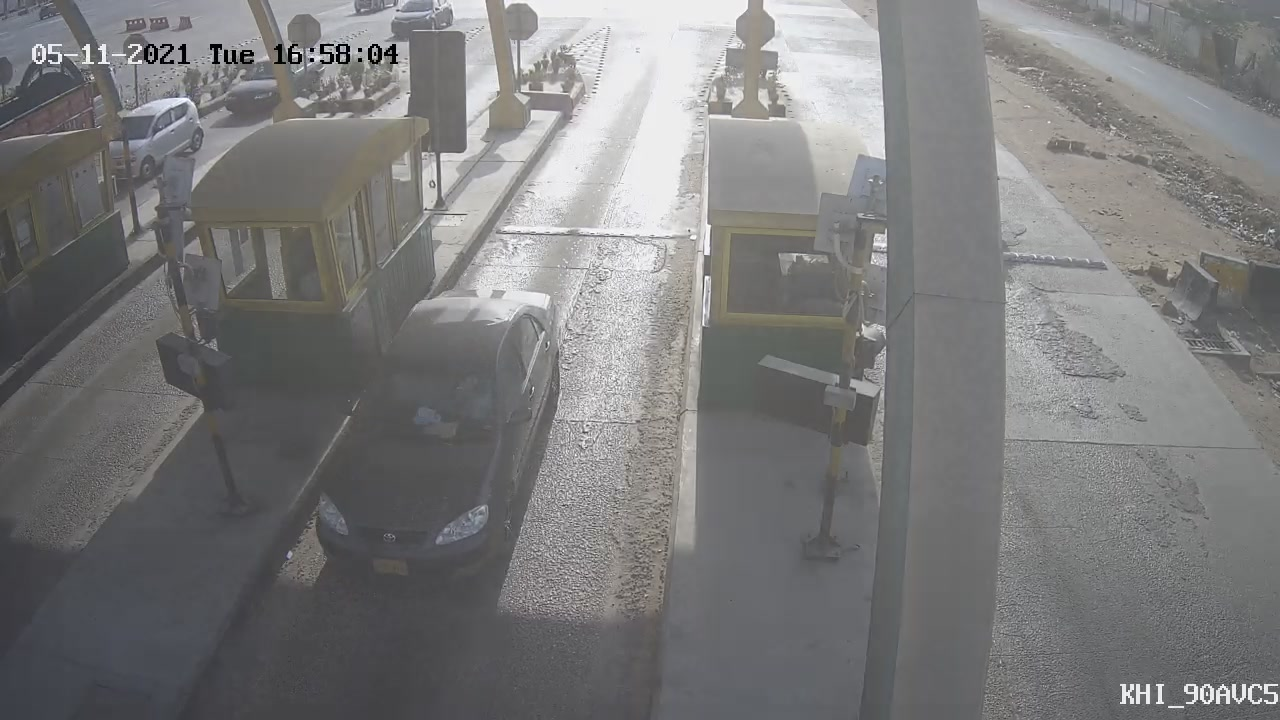F1: (265, 264, 587, 614)
